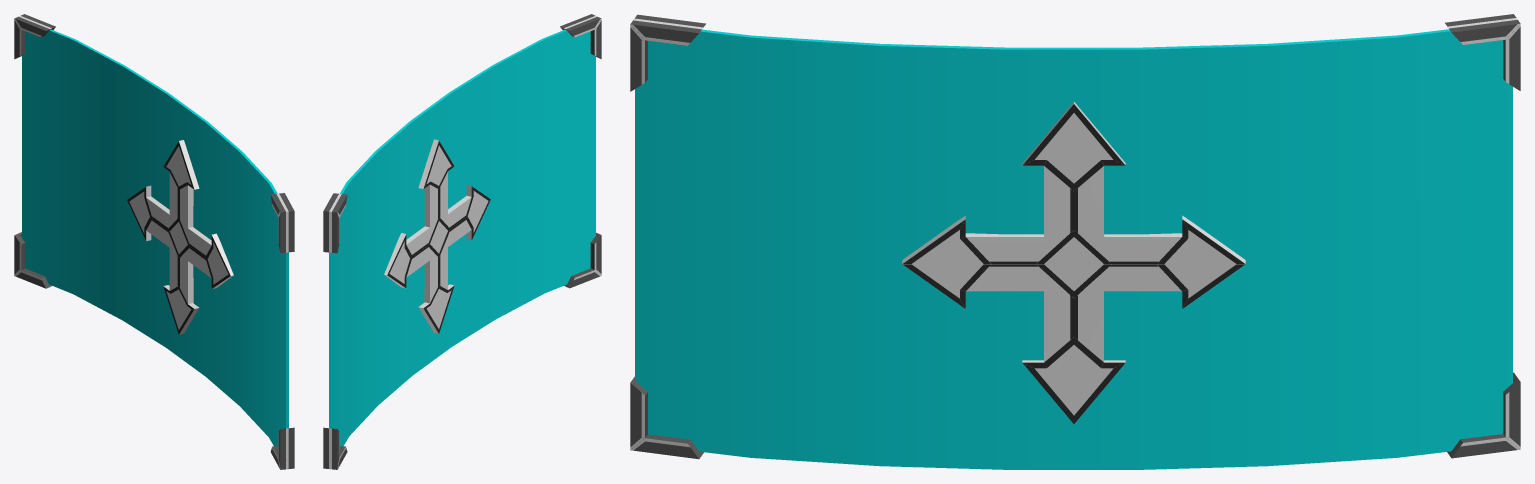
File: shield_ground.fbx
3 renders of one model, left to right at view 1: azimuth 30°, elevation 25°; view 2: azimuth 150°, elevation 25°; view 3: azimuth 270°, elevation 25°, orthographic. The views are drawn at different scales.
Parts seen in each view (by area): view 1: polySurface442; view 2: polySurface442; view 3: polySurface442.
Part boxes in pixels (x1,y1,x2,y2): polySurface442: [14, 14, 294, 469]; polySurface442: [323, 14, 601, 469]; polySurface442: [630, 14, 1520, 469].
Bounding box in the file's own units: 1.07 × 5.96 × 11.3.
